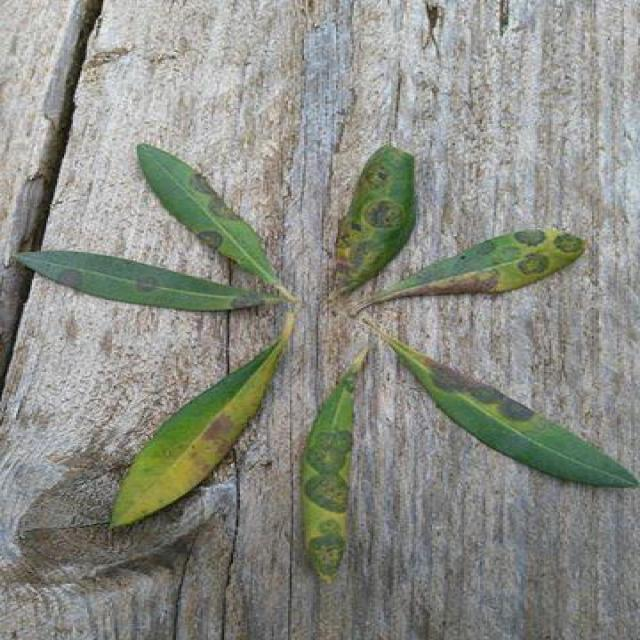OlivePeacockSpot: (390, 340, 638, 487), (112, 334, 284, 526), (138, 144, 278, 285), (372, 230, 584, 302), (302, 349, 366, 582), (19, 250, 264, 310), (330, 146, 414, 294)
